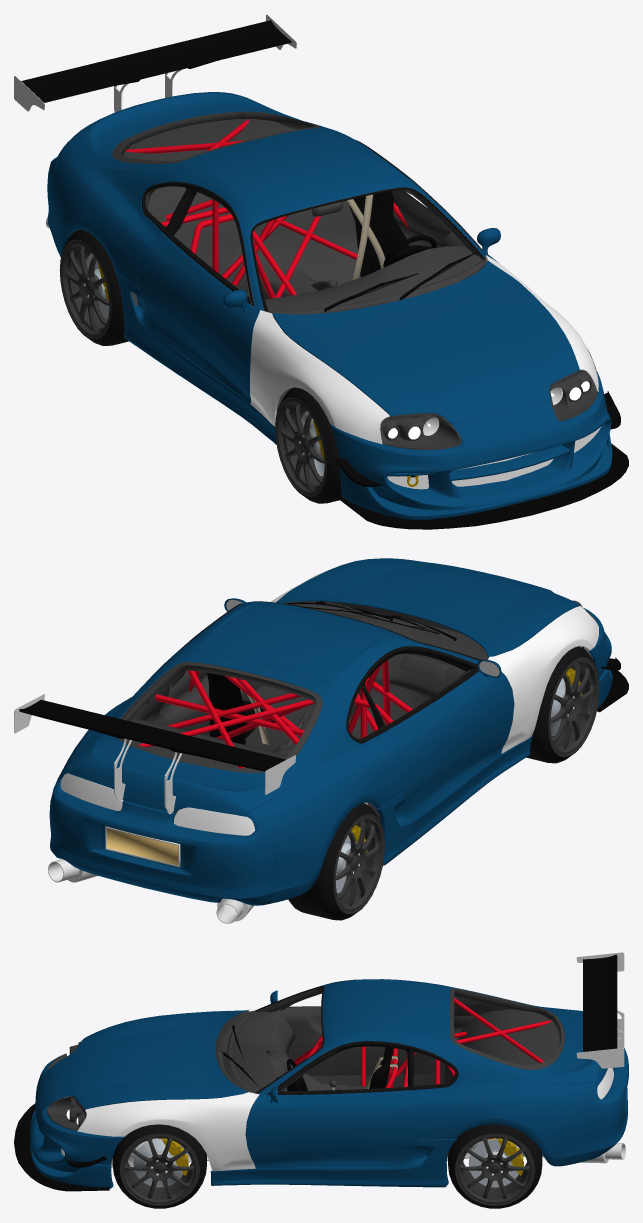
Rendered from asset.glb.
The picture shows the model from 3 angles, top to bottom: view 1: azimuth 30°, elevation 25°; view 2: azimuth 150°, elevation 25°; view 3: azimuth 270°, elevation 25°; orthographic projection. The views are drawn at different scales.
Parts seen in each view (by area): view 1: Hood, Main_Body, Cabin, Front_Bumper, Doors, Front_Sides, Wing, Trunk, Roll Bars, Aero_Assembly, Skirts, Front_LIght_Cap (+13 smaller); view 2: Main_Body, Rear_Bumper, Hood, Trunk, Cabin, Doors, Front_Sides, Roll Bars, Wing, Skirts, Rim_RR, Rim_FR (+14 smaller); view 3: Main_Body, Cabin, Hood, Doors, Front_Sides, Skirts, Front_Bumper, Trunk, Rim_FL, Rim_RL, Wing, Rear_Bumper (+13 smaller).
Part boxes in pixels (x1,y1,x2,y2): Hood: (272,261,579,423); Main_Body: (50,109,485,310); Cabin: (120,112,485,410); Front_Bumper: (330,370,612,520); Doors: (137,233,498,403); Front_Sides: (250,255,598,444); Wing: (21,20,292,102); Trunk: (67,92,335,171); Roll Bars: (125,119,408,384); Aero_Assembly: (335,391,628,529); Skirts: (115,270,276,444); Front_LIght_Cap: (380,370,597,449); Main_Body: (59,601,479,903); Rear_Bumper: (49,777,274,905); Hood: (276,558,579,657); Trunk: (69,651,337,816); Cabin: (124,609,481,821); Doors: (387,671,514,817); Front_Sides: (271,570,598,753); Roll Bars: (138,660,483,768); Wing: (19,699,286,771); Skirts: (377,736,532,865); Rim_RR: (333,814,384,913); Rim_FR: (548,657,599,756); Main_Body: (258,979,597,1166); Cabin: (223,987,561,1155); Hood: (58,1010,248,1109); Doors: (245,1090,422,1168); Front_Sides: (77,1008,259,1171); Skirts: (210,1139,456,1187); Front_Bumper: (30,1053,124,1188); Trunk: (436,985,607,1084); Rim_FL: (119,1133,199,1205); Rim_RL: (455,1133,535,1205); Wing: (583,954,617,1051); Rear_Bumper: (588,1048,628,1159).
Size of the model in its own units: 2.42 by 1.71 by 5.95.
